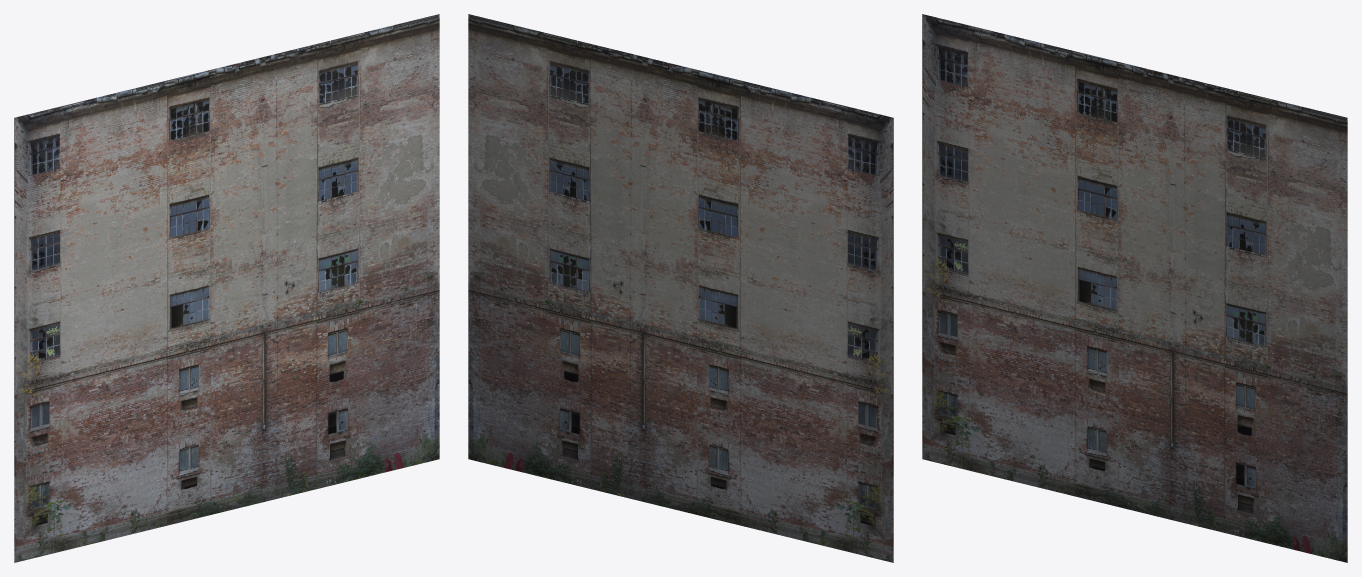
Rendered from fachada.obj.
3 views of the same model, side by side, from view 1: azimuth 30°, elevation 25°; view 2: azimuth 150°, elevation 25°; view 3: azimuth 330°, elevation 25° (orthographic).
Visible parts, largest first — view 1: Plane.001; view 2: Plane.001; view 3: Plane.001.
Boxes of the visible parts, x1=… form: Plane.001: x1=14, y1=14, x2=439, y2=562; Plane.001: x1=468, y1=14, x2=893, y2=562; Plane.001: x1=922, y1=14, x2=1347, y2=562.
Size of the model in its own units: 100 by 100 by 3.05e-05.
